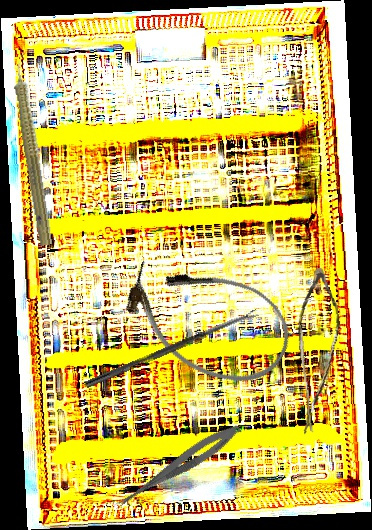Cannula: (110, 239, 305, 402)
Handpiece: (5, 49, 61, 247)
Micro Scissor: (110, 418, 245, 518), (284, 266, 353, 439)
Surgical Spoon: (84, 308, 260, 390)
